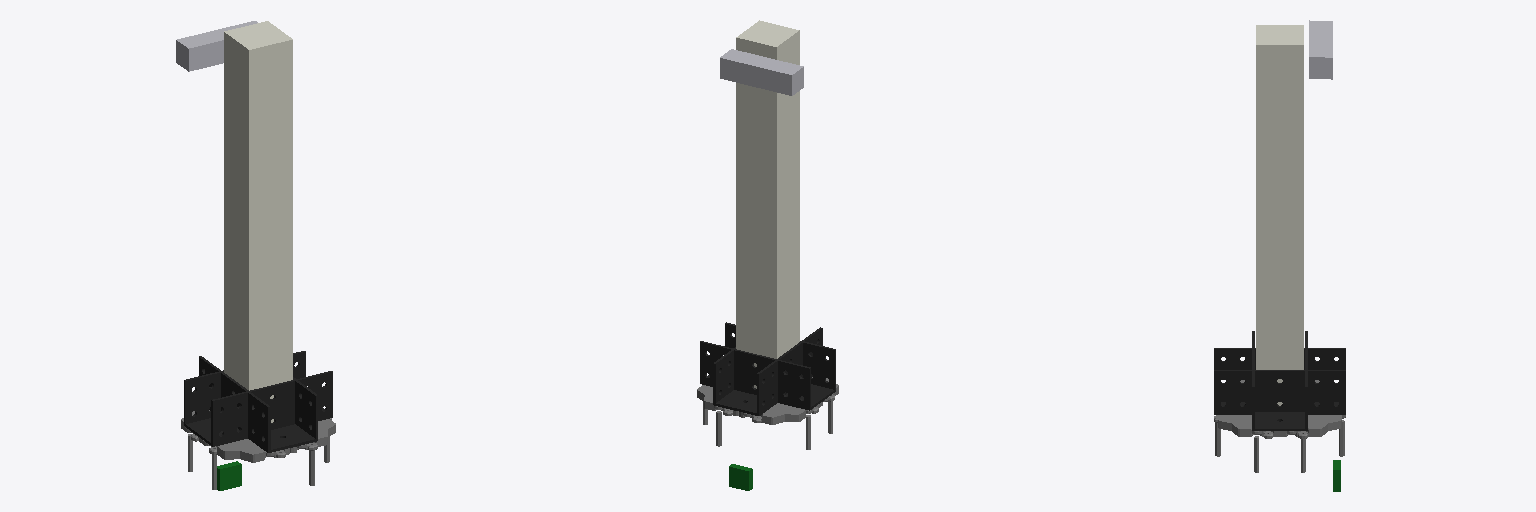
URDF robot description (turtlebot3_burger):
<?xml version='1.0' encoding='utf-8'?>
<robot name="turtlebot3_burger">
  <material name="black">
    <color rgba="0.0 0.0 0.0 1.0" />
  </material>
  <material name="dark">
    <color rgba="0.3 0.3 0.3 1.0" />
  </material>
  <material name="light_black">
    <color rgba="0.4 0.4 0.4 1.0" />
  </material>
  <material name="blue">
    <color rgba="0.0 0.0 0.8 1.0" />
  </material>
  <material name="green">
    <color rgba="0.0 0.8 0.0 1.0" />
  </material>
  <material name="grey">
    <color rgba="0.5 0.5 0.5 1.0" />
  </material>
  <material name="orange">
    <color rgba="1.0 0.4235 0.0392 1.0" />
  </material>
  <material name="brown">
    <color rgba="0.8706 0.8118 0.7647 1.0" />
  </material>
  <material name="red">
    <color rgba="0.8 0.0 0.0 1.0" />
  </material>
  <material name="white">
    <color rgba="1.0 1.0 1.0 1.0" />
  </material>
  <link name="base_footprint" />
  <joint name="base_joint" type="fixed">
    <parent link="base_footprint" />
    <child link="base_link" />
    <origin rpy="0 0 0" xyz="0.0 0.0 0.010" />
  </joint>
  <link name="base_link">
    <visual>
      <origin rpy="0 0 0" xyz="-0.032 0 0.0" />
      <geometry>
        <mesh filename="package://farm_real_devices/description/meshes/burger_base.stl" scale="0.001 0.001 0.001" />
      </geometry>
      <material name="light_black" />
    </visual>
    <collision>
      <origin rpy="0 0 0" xyz="-0.032 0 0.070" />
      <geometry>
        <box size="0.140 0.140 0.143" />
      </geometry>
    </collision>
    <inertial>
      <origin rpy="0 0 0" xyz="0 0 0" />
      <mass value="8.2573504e-01" />
      <inertia ixx="2.2124416e-03" ixy="-1.2294101e-05" ixz="3.4938785e-05" iyy="2.1193702e-03" iyz="-5.0120904e-06" izz="2.0064271e-03" />
    </inertial>
  </link>
  <joint name="wheel_left_joint" type="continuous">
    <parent link="base_link" />
    <child link="wheel_left_link" />
    <origin rpy="-1.57 0 0" xyz="0.0 0.08 0.023" />
    <axis xyz="0 0 1" />
  </joint>
  <link name="wheel_left_link">
    <visual>
      <origin rpy="1.57 0 0" xyz="0 0 0" />
      <geometry>
        <mesh filename="package://farm_real_devices/description/meshes/left_tire.stl" scale="0.001 0.001 0.001" />
      </geometry>
      <material name="dark" />
    </visual>
    <collision>
      <origin rpy="0 0 0" xyz="0 0 0" />
      <geometry>
        <cylinder length="0.018" radius="0.033" />
      </geometry>
    </collision>
    <inertial>
      <origin xyz="0 0 0" />
      <mass value="2.8498940e-02" />
      <inertia ixx="1.1175580e-05" ixy="-4.2369783e-11" ixz="-5.9381719e-09" iyy="1.1192413e-05" iyz="-1.4400107e-11" izz="2.0712558e-05" />
    </inertial>
  </link>
  <joint name="wheel_right_joint" type="continuous">
    <parent link="base_link" />
    <child link="wheel_right_link" />
    <origin rpy="-1.57 0 0" xyz="0.0 -0.080 0.023" />
    <axis xyz="0 0 1" />
  </joint>
  <link name="wheel_right_link">
    <visual>
      <origin rpy="1.57 0 0" xyz="0 0 0" />
      <geometry>
        <mesh filename="package://farm_real_devices/description/meshes/right_tire.stl" scale="0.001 0.001 0.001" />
      </geometry>
      <material name="dark" />
    </visual>
    <collision>
      <origin rpy="0 0 0" xyz="0 0 0" />
      <geometry>
        <cylinder length="0.018" radius="0.033" />
      </geometry>
    </collision>
    <inertial>
      <origin xyz="0 0 0" />
      <mass value="2.8498940e-02" />
      <inertia ixx="1.1175580e-05" ixy="-4.2369783e-11" ixz="-5.9381719e-09" iyy="1.1192413e-05" iyz="-1.4400107e-11" izz="2.0712558e-05" />
    </inertial>
  </link>
  <joint name="caster_back_joint" type="fixed">
    <parent link="base_link" />
    <child link="caster_back_link" />
    <origin rpy="-1.57 0 0" xyz="-0.081 0 -0.004" />
  </joint>
  <link name="caster_back_link">
    <collision>
      <origin rpy="0 0 0" xyz="0 0.001 0" />
      <geometry>
        <box size="0.030 0.009 0.020" />
      </geometry>
    </collision>
    <inertial>
      <origin xyz="0 0 0" />
      <mass value="0.005" />
      <inertia ixx="0.001" ixy="0.0" ixz="0.0" iyy="0.001" iyz="0.0" izz="0.001" />
    </inertial>
  </link>
  <joint name="imu_joint" type="fixed">
    <parent link="base_link" />
    <child link="imu_link" />
    <origin rpy="0 0 0" xyz="-0.032 0 0.068" />
  </joint>
  <link name="imu_link" />
  <joint name="scan_joint" type="fixed">
    <parent link="base_link" />
    <child link="base_scan" />
    <origin rpy="0 0 0" xyz="-0.032 0 0.172" />
  </joint>
  <link name="base_scan">
    <visual>
      <origin rpy="0 0 0" xyz="0 0 0.0" />
      <geometry>
        <mesh filename="package://farm_real_devices/description/meshes/lds.stl" scale="0.001 0.001 0.001" />
      </geometry>
      <material name="dark" />
    </visual>
    <collision>
      <origin rpy="0 0 0" xyz="0.015 0 -0.0065" />
      <geometry>
        <cylinder length="0.0315" radius="0.055" />
      </geometry>
    </collision>
    <inertial>
      <mass value="0.114" />
      <origin xyz="0 0 0" />
      <inertia ixx="0.001" ixy="0.0" ixz="0.0" iyy="0.001" iyz="0.0" izz="0.001" />
    </inertial>
  </link>
  <link name="scout_plate_center_ground" />
  <joint name="scout_plate_center_ground_joint" type="fixed">
    <parent link="base_footprint" />
    <child link="scout_plate_center_ground" />
    <origin xyz="-0.032 0 0" rpy="0 0 0" />
  </joint>
  <link name="scout_plate_post_0">
    <visual>
      <origin xyz="0 0 0" />
      <geometry>
        <mesh filename="package://farm_real_devices/description/meshes/hex_spacer_39p5mm.stl" scale="0.001 0.001 0.001" />
      </geometry>
      <material name="scout_plate_post_0_material">
        <color rgba="0.5 0.5 0.5 1" />
      </material>
    </visual>
    <collision>
      <origin xyz="0 0 0" />
      <geometry>
        <mesh filename="package://farm_real_devices/description/meshes/hex_spacer_39p5mm.stl" scale="0.001 0.001 0.001" />
      </geometry>
    </collision>
  </link>
  <joint name="scout_plate_post_0_joint" type="fixed">
    <parent link="scout_plate_center_ground" />
    <child link="scout_plate_post_0" />
    <origin xyz="-0.064 -0.024 0.17125" rpy="0 0 0" />
  </joint>
  <link name="scout_plate_post_1">
    <visual>
      <origin xyz="0 0 0" />
      <geometry>
        <mesh filename="package://farm_real_devices/description/meshes/hex_spacer_39p5mm.stl" scale="0.001 0.001 0.001" />
      </geometry>
      <material name="scout_plate_post_1_material">
        <color rgba="0.5 0.5 0.5 1" />
      </material>
    </visual>
    <collision>
      <origin xyz="0 0 0" />
      <geometry>
        <mesh filename="package://farm_real_devices/description/meshes/hex_spacer_39p5mm.stl" scale="0.001 0.001 0.001" />
      </geometry>
    </collision>
  </link>
  <joint name="scout_plate_post_1_joint" type="fixed">
    <parent link="scout_plate_center_ground" />
    <child link="scout_plate_post_1" />
    <origin xyz="-0.064 0.024 0.17125" rpy="0 0 0" />
  </joint>
  <link name="scout_plate_post_2">
    <visual>
      <origin xyz="0 0 0" />
      <geometry>
        <mesh filename="package://farm_real_devices/description/meshes/hex_spacer_39p5mm.stl" scale="0.001 0.001 0.001" />
      </geometry>
      <material name="scout_plate_post_2_material">
        <color rgba="0.5 0.5 0.5 1" />
      </material>
    </visual>
    <collision>
      <origin xyz="0 0 0" />
      <geometry>
        <mesh filename="package://farm_real_devices/description/meshes/hex_spacer_39p5mm.stl" scale="0.001 0.001 0.001" />
      </geometry>
    </collision>
  </link>
  <joint name="scout_plate_post_2_joint" type="fixed">
    <parent link="scout_plate_center_ground" />
    <child link="scout_plate_post_2" />
    <origin xyz="0.024 -0.064 0.17125" rpy="0 0 1.5707963267948966" />
  </joint>
  <link name="scout_plate_post_3">
    <visual>
      <origin xyz="0 0 0" />
      <geometry>
        <mesh filename="package://farm_real_devices/description/meshes/hex_spacer_39p5mm.stl" scale="0.001 0.001 0.001" />
      </geometry>
      <material name="scout_plate_post_3_material">
        <color rgba="0.5 0.5 0.5 1" />
      </material>
    </visual>
    <collision>
      <origin xyz="0 0 0" />
      <geometry>
        <mesh filename="package://farm_real_devices/description/meshes/hex_spacer_39p5mm.stl" scale="0.001 0.001 0.001" />
      </geometry>
    </collision>
  </link>
  <joint name="scout_plate_post_3_joint" type="fixed">
    <parent link="scout_plate_center_ground" />
    <child link="scout_plate_post_3" />
    <origin xyz="0.024 0.064 0.17125" rpy="0 0 1.5707963267948966" />
  </joint>
  <link name="scout_plate_post_4">
    <visual>
      <origin xyz="0 0 0" />
      <geometry>
        <mesh filename="package://farm_real_devices/description/meshes/hex_spacer_39p5mm.stl" scale="0.001 0.001 0.001" />
      </geometry>
      <material name="scout_plate_post_4_material">
        <color rgba="0.5 0.5 0.5 1" />
      </material>
    </visual>
    <collision>
      <origin xyz="0 0 0" />
      <geometry>
        <mesh filename="package://farm_real_devices/description/meshes/hex_spacer_39p5mm.stl" scale="0.001 0.001 0.001" />
      </geometry>
    </collision>
  </link>
  <joint name="scout_plate_post_4_joint" type="fixed">
    <parent link="scout_plate_center_ground" />
    <child link="scout_plate_post_4" />
    <origin xyz="0.064 -0.024 0.17125" rpy="0 0 0" />
  </joint>
  <link name="scout_plate_post_5">
    <visual>
      <origin xyz="0 0 0" />
      <geometry>
        <mesh filename="package://farm_real_devices/description/meshes/hex_spacer_39p5mm.stl" scale="0.001 0.001 0.001" />
      </geometry>
      <material name="scout_plate_post_5_material">
        <color rgba="0.5 0.5 0.5 1" />
      </material>
    </visual>
    <collision>
      <origin xyz="0 0 0" />
      <geometry>
        <mesh filename="package://farm_real_devices/description/meshes/hex_spacer_39p5mm.stl" scale="0.001 0.001 0.001" />
      </geometry>
    </collision>
  </link>
  <joint name="scout_plate_post_5_joint" type="fixed">
    <parent link="scout_plate_center_ground" />
    <child link="scout_plate_post_5" />
    <origin xyz="0.064 0.024 0.17125" rpy="0 0 0" />
  </joint>
  <link name="scout_top_plate">
    <visual>
      <origin xyz="0 0 0" />
      <geometry>
        <mesh filename="package://farm_real_devices/description/meshes/burger_top_plate.stl" scale="0.001 0.001 0.001" />
      </geometry>
      <material name="scout_top_plate_material">
        <color rgba="0.5 0.5 0.5 1" />
      </material>
    </visual>
    <collision>
      <origin xyz="0 0 0" />
      <geometry>
        <mesh filename="package://farm_real_devices/description/meshes/burger_top_plate.stl" scale="0.001 0.001 0.001" />
      </geometry>
    </collision>
  </link>
  <joint name="scout_top_plate_joint" type="fixed">
    <parent link="scout_plate_center_ground" />
    <child link="scout_top_plate" />
    <origin xyz="0 0 0.20" rpy="0 0 0" />
  </joint>
  <link name="scout_mast_holder">
    <visual>
      <origin xyz="0 0 0" />
      <geometry>
        <mesh filename="package://farm_real_devices/description/meshes/dux_cross_tee_50x50.stl" scale="0.001 0.001 0.001" />
      </geometry>
      <material name="scout_mast_holder_material">
        <color rgba="0.18 0.18 0.18 1" />
      </material>
    </visual>
    <collision>
      <origin xyz="0 0 0" />
      <geometry>
        <mesh filename="package://farm_real_devices/description/meshes/dux_cross_tee_50x50.stl" scale="0.001 0.001 0.001" />
      </geometry>
    </collision>
  </link>
  <joint name="scout_mast_holder_joint" type="fixed">
    <parent link="scout_top_plate" />
    <child link="scout_mast_holder" />
    <origin xyz="0 0 0" rpy="0 0 0" />
  </joint>
  <link name="scout_camera_mast">
    <visual>
      <origin xyz="0 0 0" />
      <geometry>
        <box size="0.05 0.05 0.42" />
      </geometry>
      <material name="scout_camera_mast_material">
        <color rgba="0.85 0.85 0.80 1" />
      </material>
    </visual>
    <collision>
      <origin xyz="0 0 0" />
      <geometry>
        <box size="0.05 0.05 0.42" />
      </geometry>
    </collision>
  </link>
  <joint name="scout_camera_mast_joint" type="fixed">
    <parent link="scout_plate_center_ground" />
    <child link="scout_camera_mast" />
    <origin xyz="0 0 0.41" rpy="0 0 0" />
  </joint>
  <link name="bmany_camera_link" />
  <joint name="bmany_camera_link_joint" type="fixed">
    <parent link="base_footprint" />
    <child link="bmany_camera_link" />
    <origin xyz="-0.049 0.055 0.595" rpy="0 0.017453292519943295 1.5707963267948966" />
  </joint>
  <link name="camera_color_optical_frame" />
  <joint name="camera_color_optical_frame_joint" type="fixed">
    <parent link="bmany_camera_link" />
    <child link="camera_color_optical_frame" />
    <origin xyz="0 0 0" rpy="-1.5707963267948966 0 -1.5707963267948966" />
  </joint>
  <link name="scout_camera_body_visual">
    <visual>
      <origin xyz="-0.012525 0 0" />
      <geometry>
        <box size="0.02505 0.09 0.025" />
      </geometry>
      <material name="scout_camera_body_visual_material">
        <color rgba="0.75 0.75 0.78 1" />
      </material>
    </visual>
    <collision>
      <origin xyz="-0.012525 0 0" />
      <geometry>
        <box size="0.02505 0.09 0.025" />
      </geometry>
    </collision>
  </link>
  <joint name="scout_camera_body_visual_joint" type="fixed">
    <parent link="bmany_camera_link" />
    <child link="scout_camera_body_visual" />
    <origin xyz="0 0 0" rpy="0 0 0" />
  </joint>
  <link name="picam_frame" />
  <joint name="picam_frame_joint" type="fixed">
    <parent link="base_footprint" />
    <child link="picam_frame" />
    <origin xyz="-0.032 0.063 0.117" rpy="0 0 1.5707963267948966" />
  </joint>
  <link name="picam_optical_frame" />
  <joint name="picam_optical_frame_joint" type="fixed">
    <parent link="picam_frame" />
    <child link="picam_optical_frame" />
    <origin xyz="0 0 0" rpy="-1.5707963267948966 0 -1.5707963267948966" />
  </joint>
  <link name="picam_body_visual">
    <visual>
      <origin xyz="-0.004 0 0" />
      <geometry>
        <box size="0.008 0.025 0.024" />
      </geometry>
      <material name="picam_body_visual_material">
        <color rgba="0.1 0.45 0.15 1" />
      </material>
    </visual>
    <collision>
      <origin xyz="-0.004 0 0" />
      <geometry>
        <box size="0.008 0.025 0.024" />
      </geometry>
    </collision>
  </link>
  <joint name="picam_body_visual_joint" type="fixed">
    <parent link="picam_frame" />
    <child link="picam_body_visual" />
    <origin xyz="0 0 0" rpy="0 0 0" />
  </joint>
  <link name="camera_color_frame" />
  <joint name="camera_color_frame_alias_joint" type="fixed">
    <parent link="bmany_camera_link" />
    <child link="camera_color_frame" />
    <origin xyz="0 0 0" rpy="0 0 0" />
  </joint>
</robot>

--- What the picture shows (computed from the rendered views, not written in the file) ---
The picture shows the robot from 3 angles, left to right: view 1: azimuth 30°, elevation 25°; view 2: azimuth 150°, elevation 25°; view 3: azimuth 270°, elevation 25°; orthographic projection.
Robot: turtlebot3_burger — 24 links, 23 joints (2 continuous, 21 fixed); root link base_footprint; default pose: all joints at 0.
Visible links, largest first — view 1: scout_camera_mast, scout_mast_holder, scout_top_plate, scout_camera_body_visual, picam_body_visual; view 2: scout_camera_mast, scout_mast_holder, scout_camera_body_visual, scout_top_plate, picam_body_visual; view 3: scout_camera_mast, scout_mast_holder, scout_top_plate, scout_camera_body_visual.
Link boxes in pixels (x1,y1,x2,y2): scout_camera_mast: (224, 21, 292, 422); scout_mast_holder: (184, 351, 332, 452); scout_top_plate: (181, 410, 335, 462); scout_camera_body_visual: (176, 21, 257, 71); picam_body_visual: (217, 461, 241, 490); scout_camera_mast: (736, 20, 799, 388); scout_mast_holder: (700, 322, 835, 415); scout_camera_body_visual: (720, 49, 803, 95); scout_top_plate: (697, 377, 838, 424); picam_body_visual: (729, 464, 752, 490); scout_camera_mast: (1256, 25, 1303, 405); scout_mast_holder: (1214, 331, 1345, 430); scout_top_plate: (1214, 380, 1345, 438); scout_camera_body_visual: (1309, 20, 1332, 79).
Size in the robot's own frame: 0.1375 by 0.1375 by 0.515 metres.
Meshes: 7 distinct files referenced, 8 mesh visuals loaded (3 binary STL); not drawn: 4 (reference not matched to a file when rendering).
